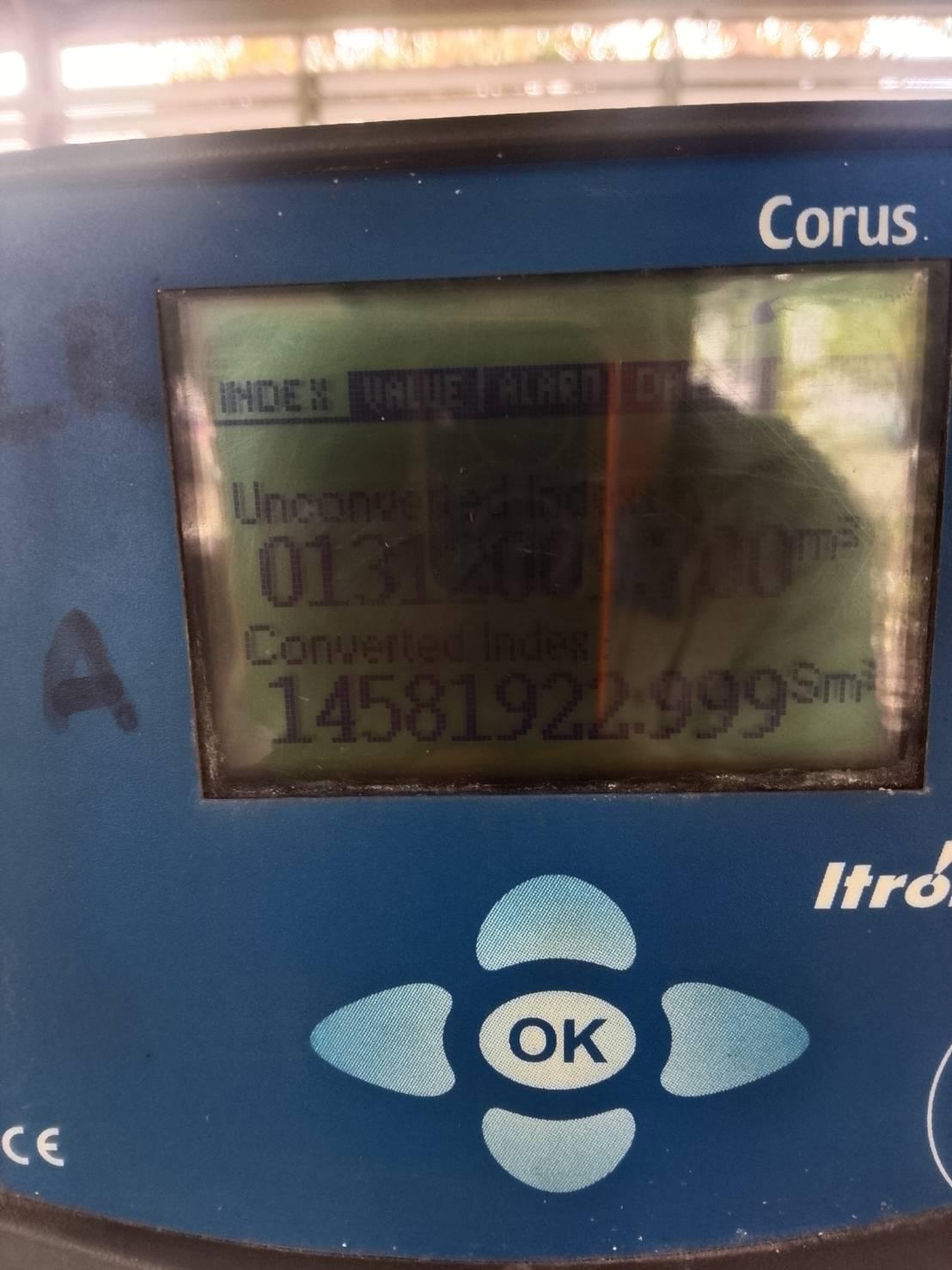digital_screen: (156, 259, 952, 822)
